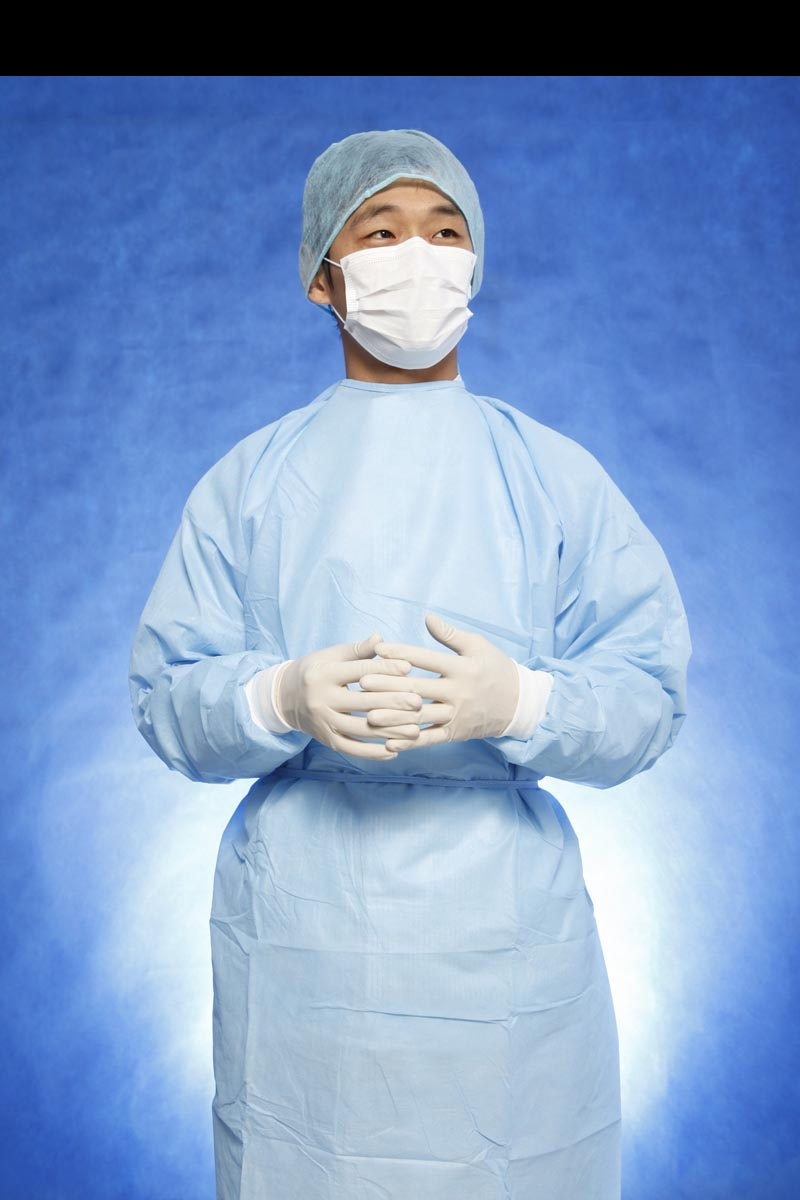face_mask: (332, 164, 472, 368)
